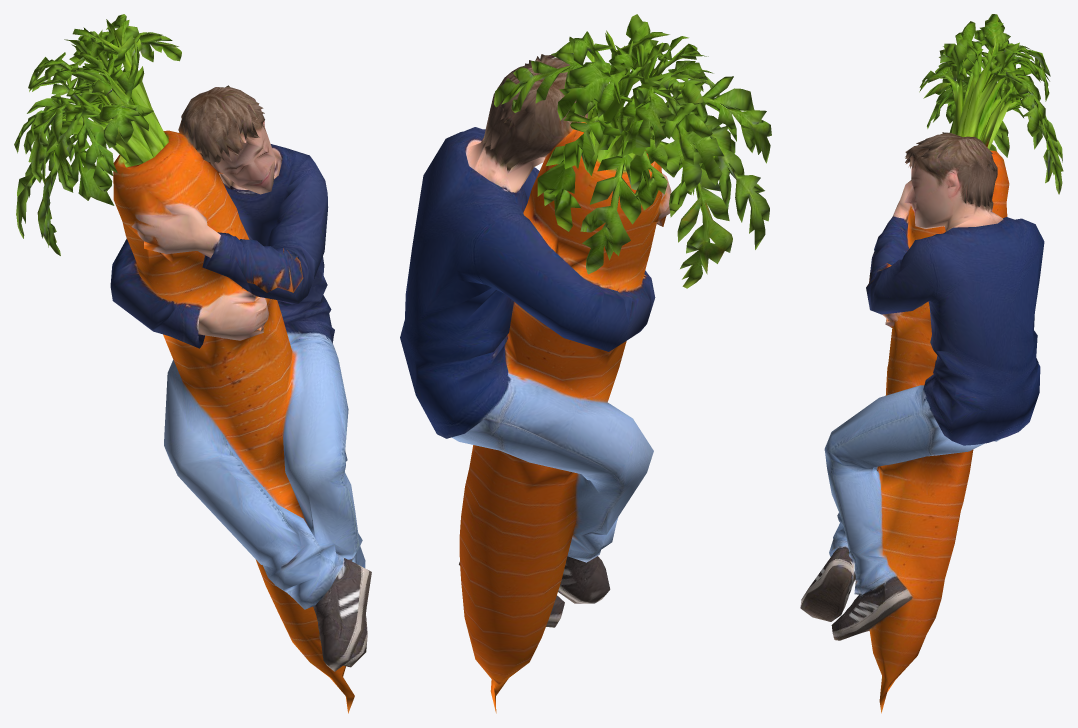
File: cryo_sleeper.glb
The picture shows the model from 3 angles, left to right: view 1: azimuth 30°, elevation 25°; view 2: azimuth 150°, elevation 25°; view 3: azimuth 270°, elevation 25°; orthographic projection. The views are drawn at different scales.
Parts seen in each view (by area): view 1: cryo_sleeper; view 2: cryo_sleeper; view 3: cryo_sleeper.
Boxes of the visible parts, bbox=[...] form: cryo_sleeper: bbox=[14, 14, 371, 713]; cryo_sleeper: bbox=[400, 14, 771, 713]; cryo_sleeper: bbox=[800, 14, 1063, 713].
Bounding box in the file's own units: 0.7925 × 1.7 × 0.6653.
Materials: 1 (1 with a texture image).
